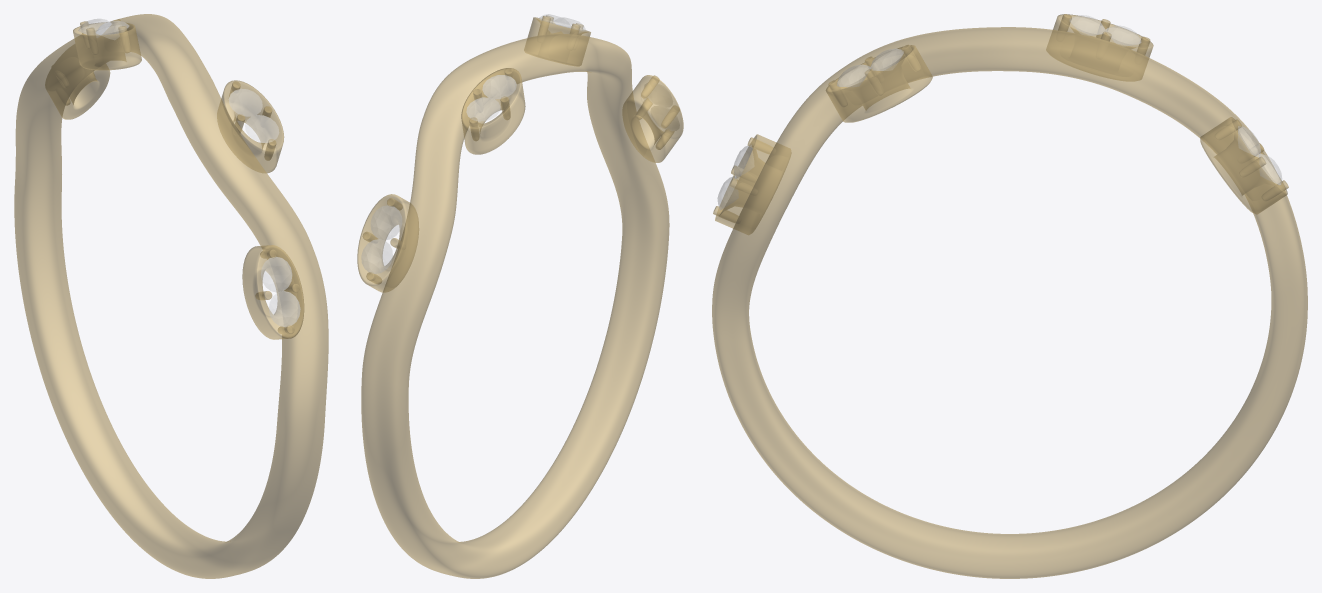
3 views of the same model, side by side, from view 1: azimuth 30°, elevation 25°; view 2: azimuth 150°, elevation 25°; view 3: azimuth 270°, elevation 25° (orthographic). The views are drawn at different scales.
Parts seen in each view (by area): view 1: ring, diamond2; view 2: ring, diamond2; view 3: ring, diamond2.
Boxes of the visible parts, box(x1,y1,x2,y2) form: ring: box(14, 14, 328, 578); diamond2: box(78, 19, 300, 326); ring: box(357, 15, 683, 578); diamond2: box(361, 14, 679, 273); ring: box(712, 14, 1307, 578); diamond2: box(717, 15, 1281, 209).
Size of the model in its own units: 0.3797 by 2.27 by 2.24.
